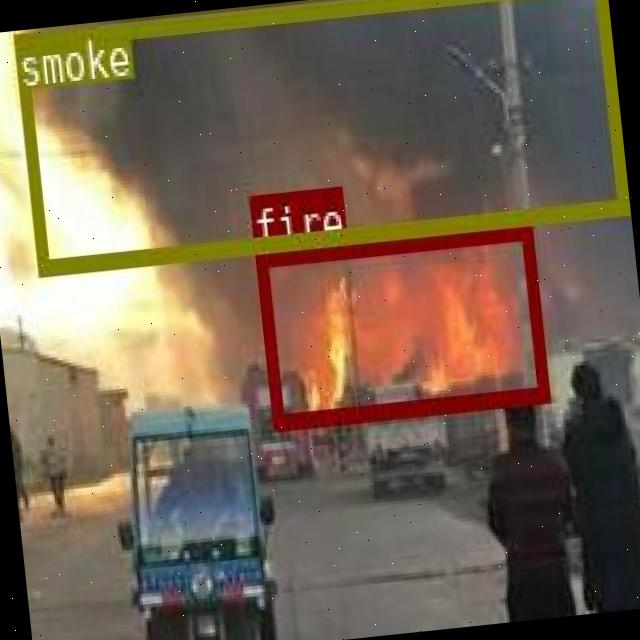fire: (252, 222, 548, 426)
smoke: (11, 0, 625, 270)
